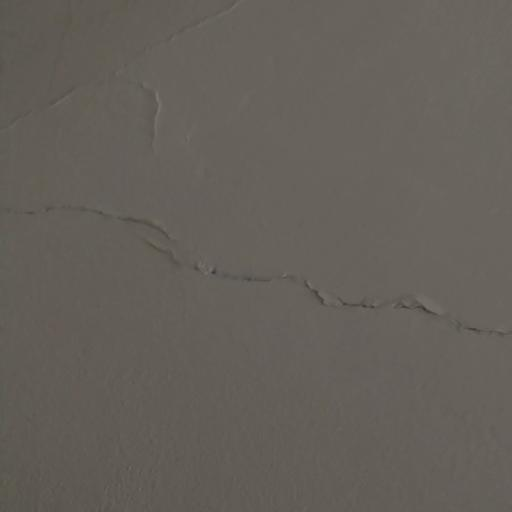minor_crack: (7, 174, 512, 352)
